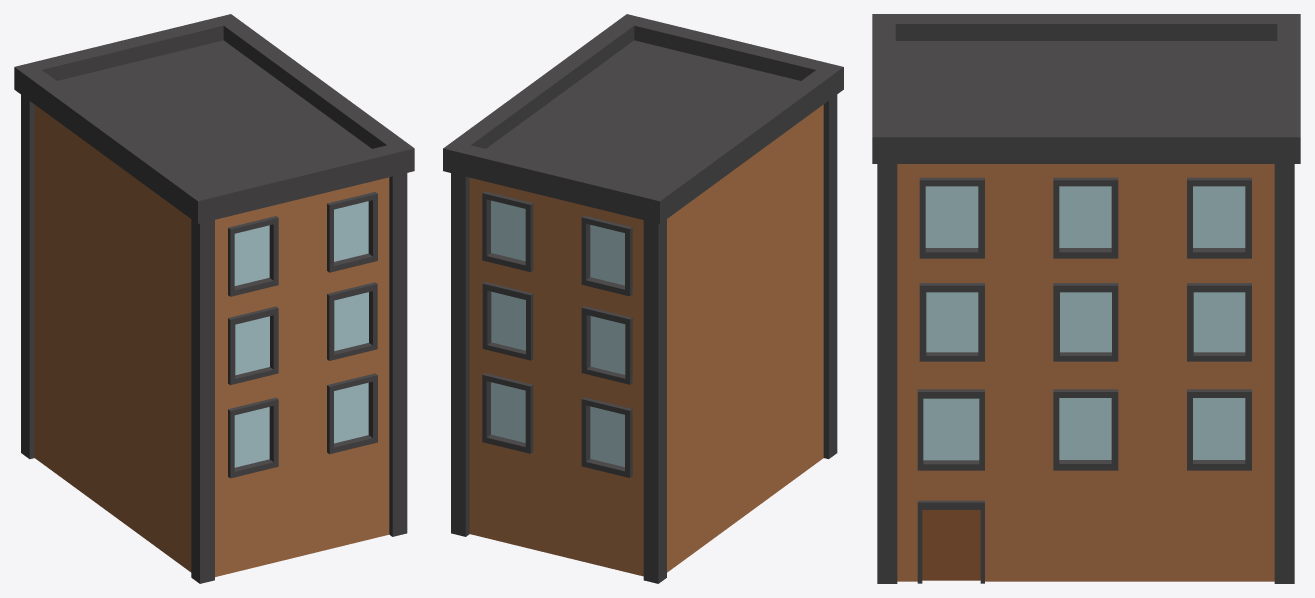
File: house_tall_wide001.fbx
3 views of the same model, side by side, from view 1: azimuth 30°, elevation 25°; view 2: azimuth 150°, elevation 25°; view 3: azimuth 270°, elevation 25° (orthographic). The views are drawn at different scales.
Visible parts, largest first — view 1: Corner.027; view 2: Corner.027; view 3: Corner.027.
Part boxes in pixels (x1,y1,x2,y2): Corner.027: (14,14,414,583); Corner.027: (443,14,843,583); Corner.027: (872,14,1300,583).
Bounding box in the file's own units: 875 × 1485 × 1283.
